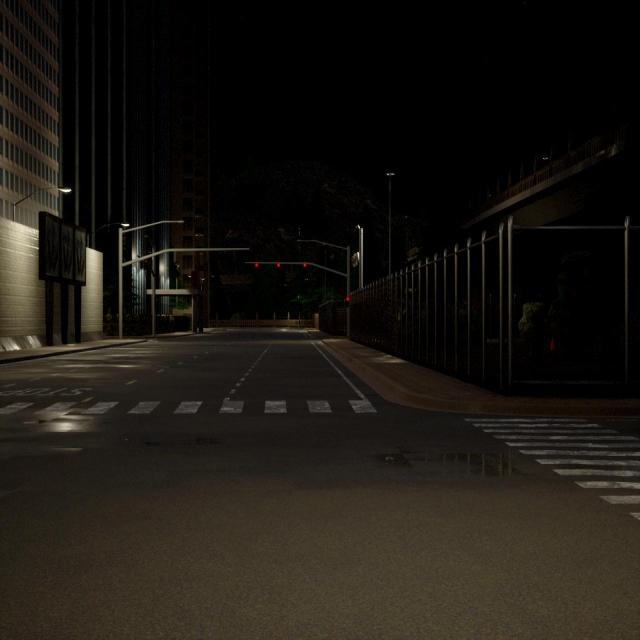traffic_light: (355, 253, 358, 265), (140, 260, 144, 269), (352, 256, 355, 267), (346, 297, 349, 307), (147, 260, 150, 268), (255, 262, 259, 267), (358, 252, 360, 262), (144, 260, 146, 270), (277, 262, 280, 267), (304, 262, 306, 268)
